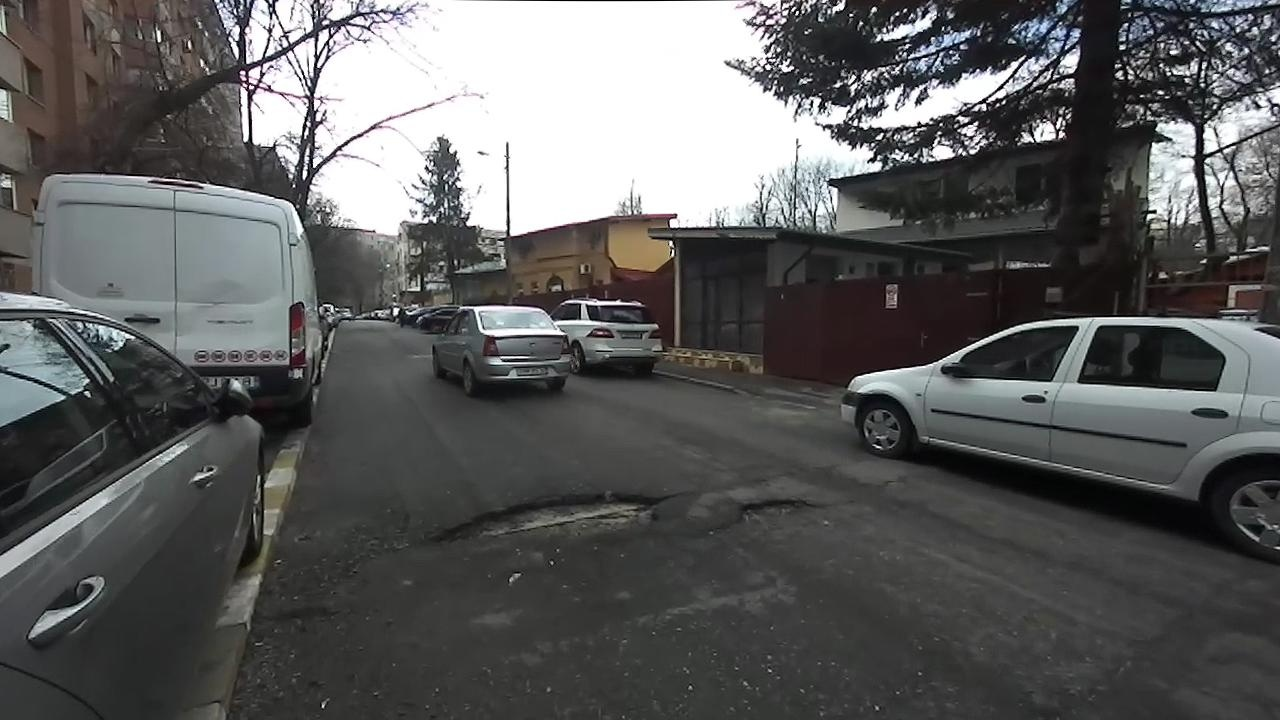pothole: (415, 483, 675, 556), (721, 492, 825, 529)
